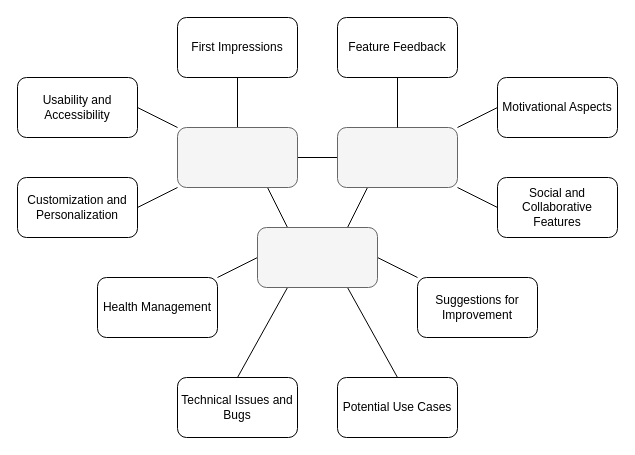
The diagram is 635 pixels wide and 455 high, and some of its shapes have lost their labels. Each missing label, with the centre of its shape:
"Engagement and Motivation" belongs at point 397,157.
"Functional and Practical Application" belongs at point 317,257.
"User Experience" belongs at point 237,157.
